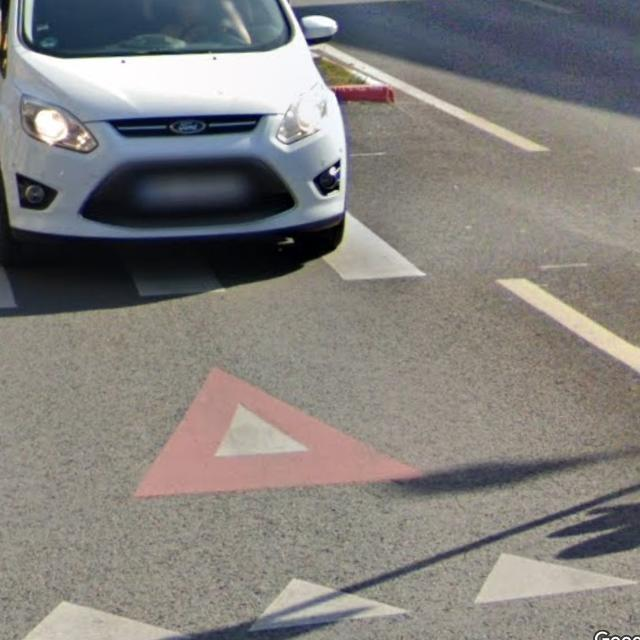prio_give_way: (134, 361, 422, 494)
